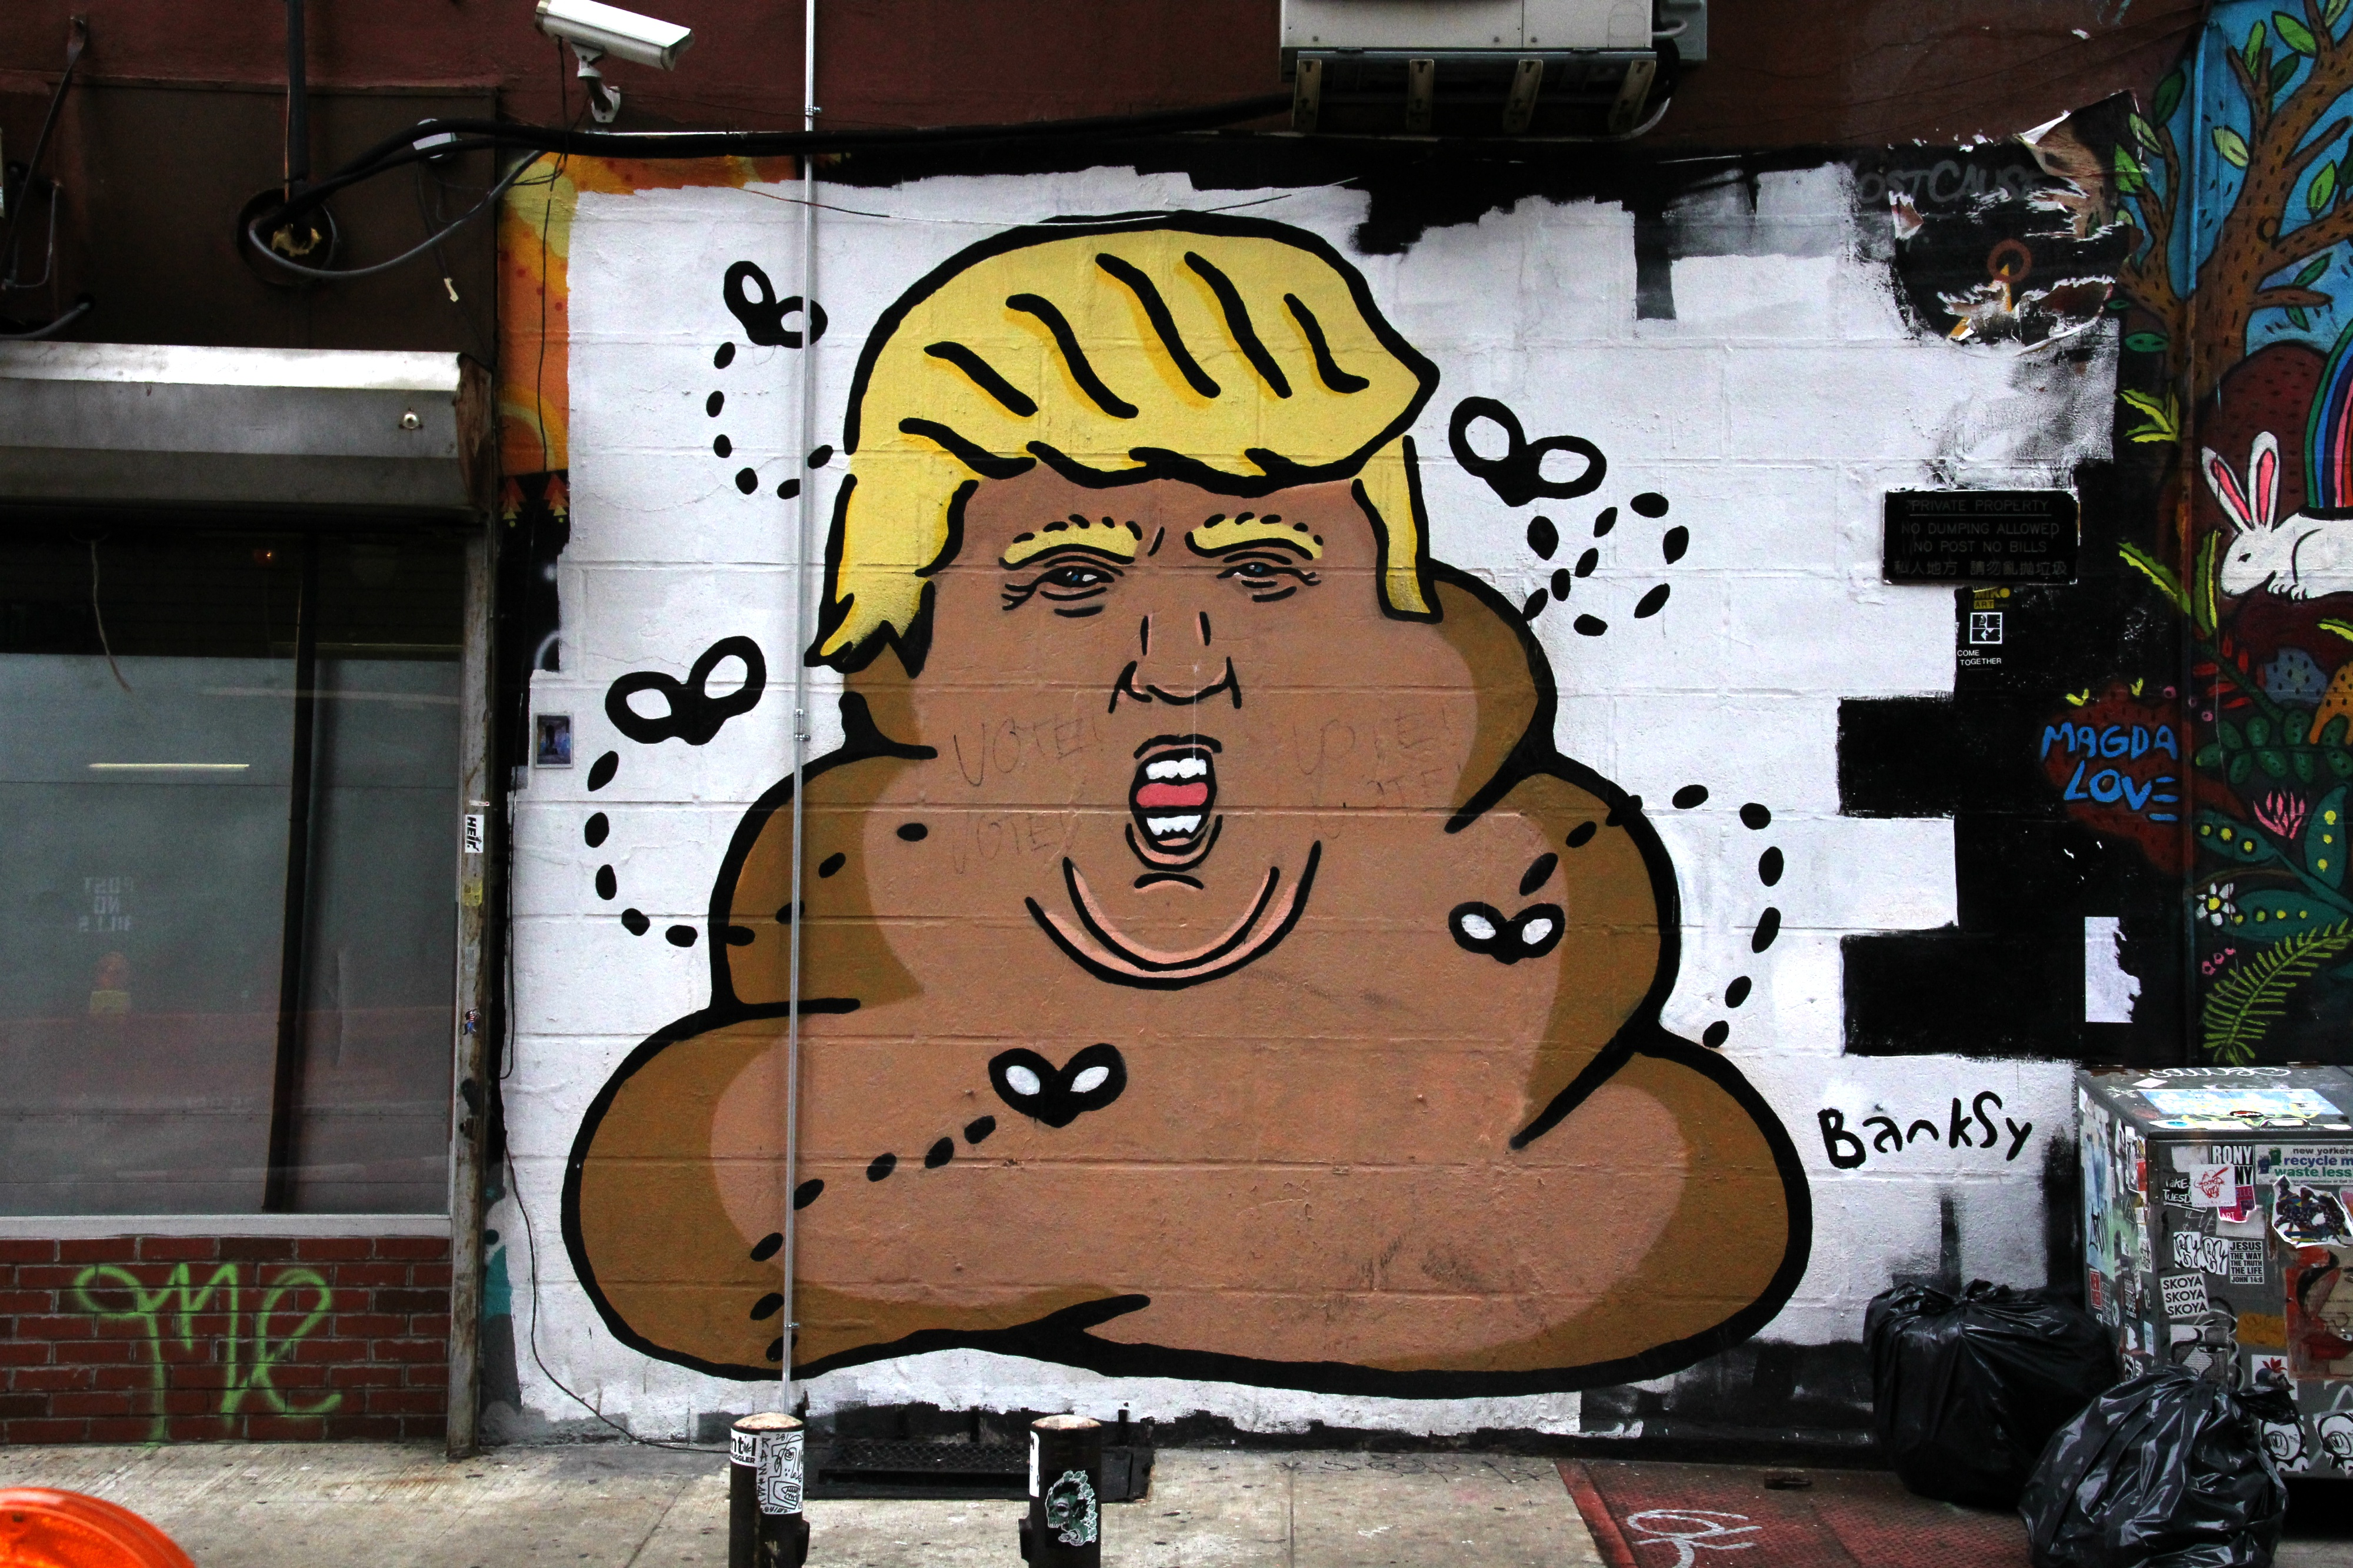graphite: (588, 180, 1833, 1395), (84, 1251, 409, 1463), (2183, 14, 2353, 420), (2189, 418, 2353, 637), (1818, 1074, 2043, 1199), (2038, 674, 2189, 857)
